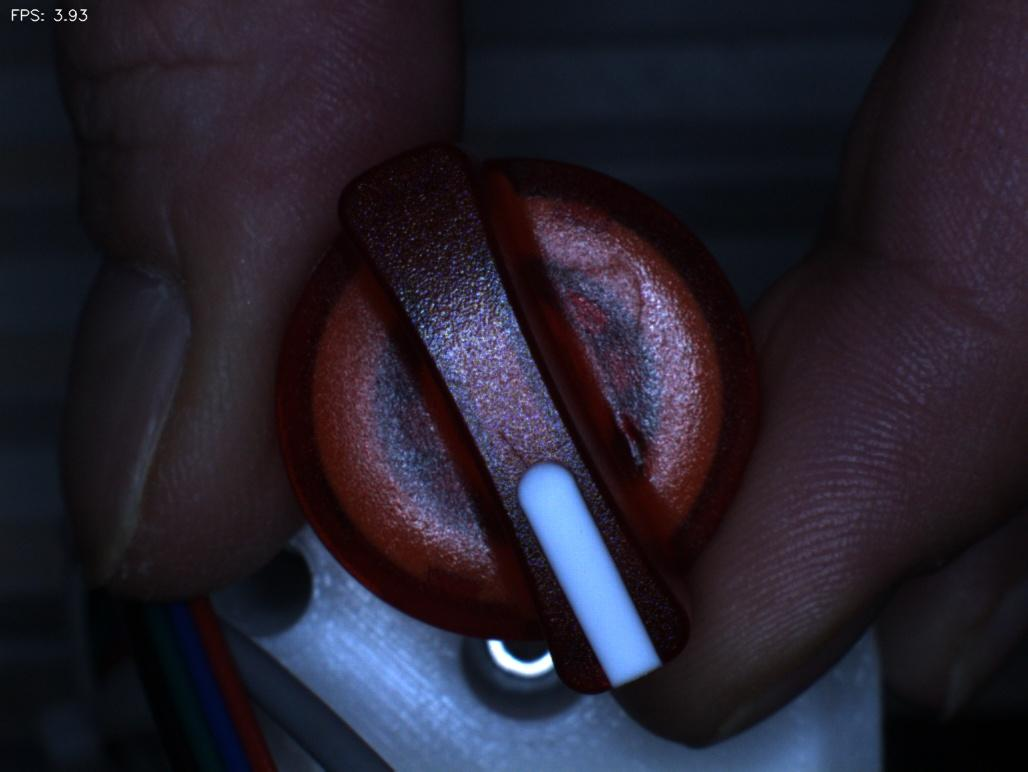Choc: (591, 388, 683, 497)
